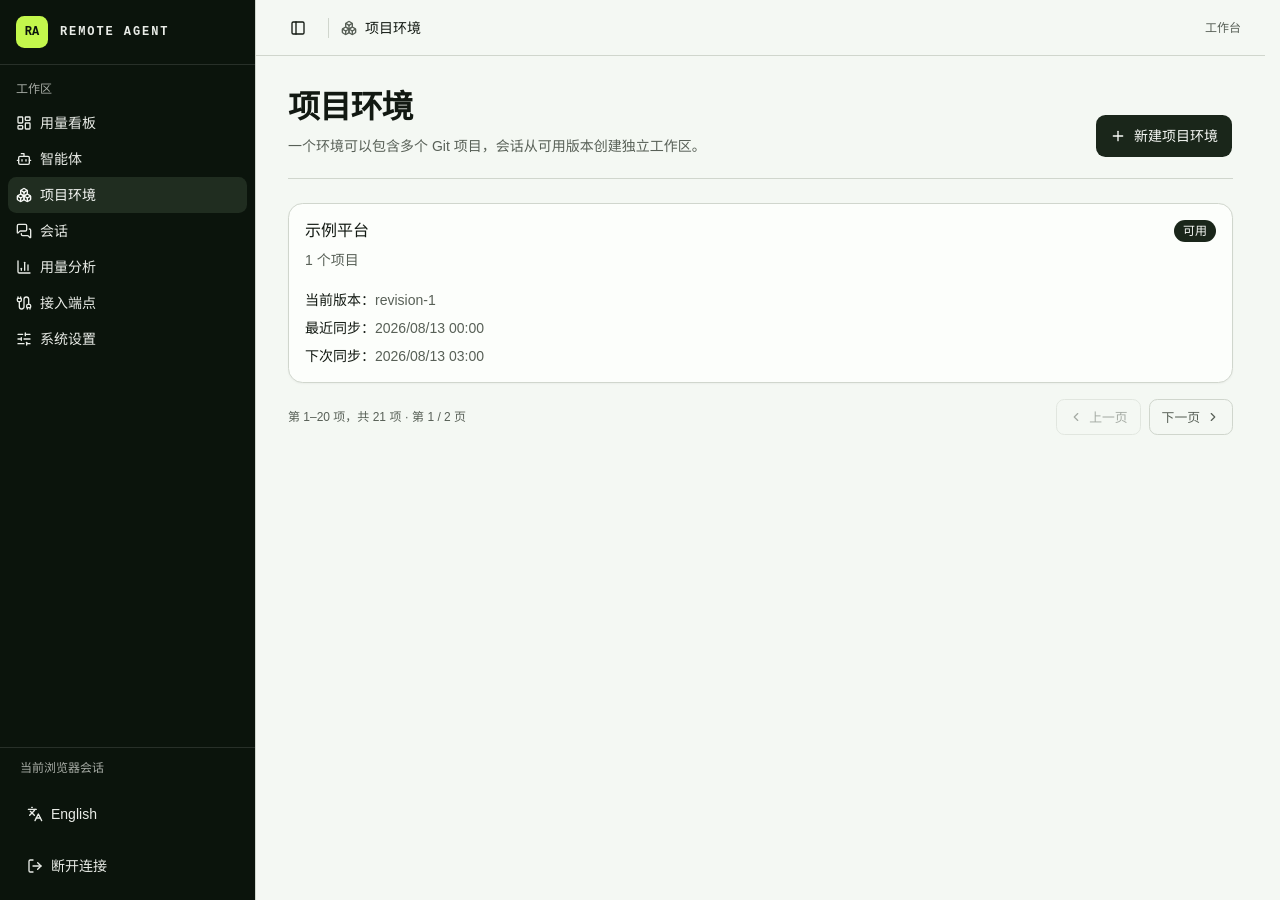
Scenario: 项目环境列表与创建表单分离
Check: the link "示例平台" is shown, box [305,222,369,239]
Check: the field labelled "项目环境名称" is not shown
Click the link "新建项目环境" at coordinates (1164, 136), box [1095,114,1233,158]
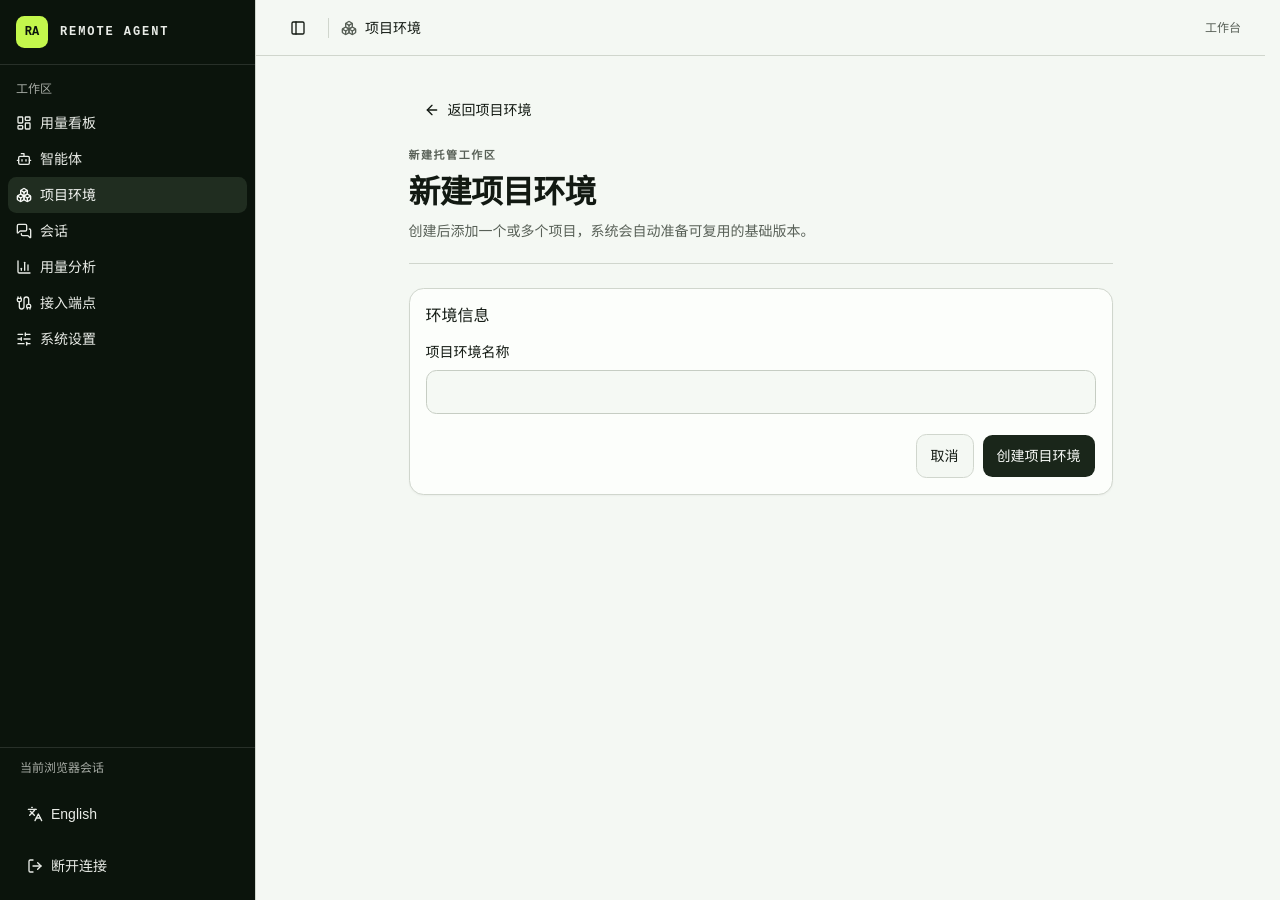
Check: the field labelled "项目环境名称" is shown, box [426,370,1096,414]
